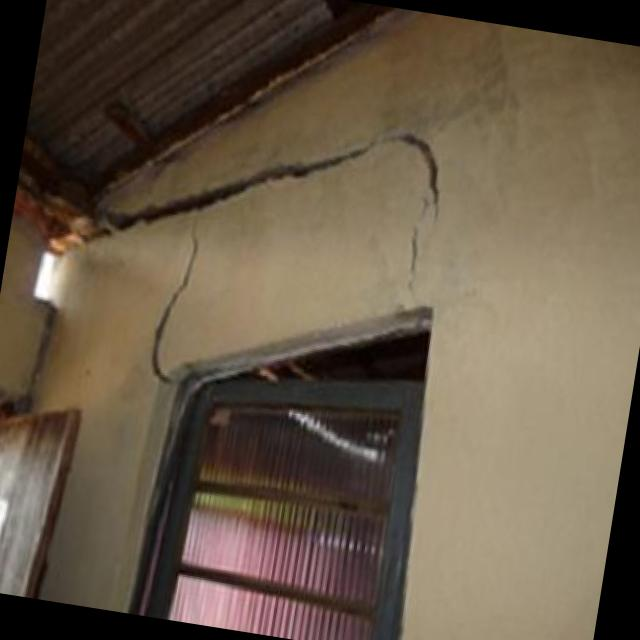crack: (102, 133, 443, 234), (150, 215, 202, 385)
